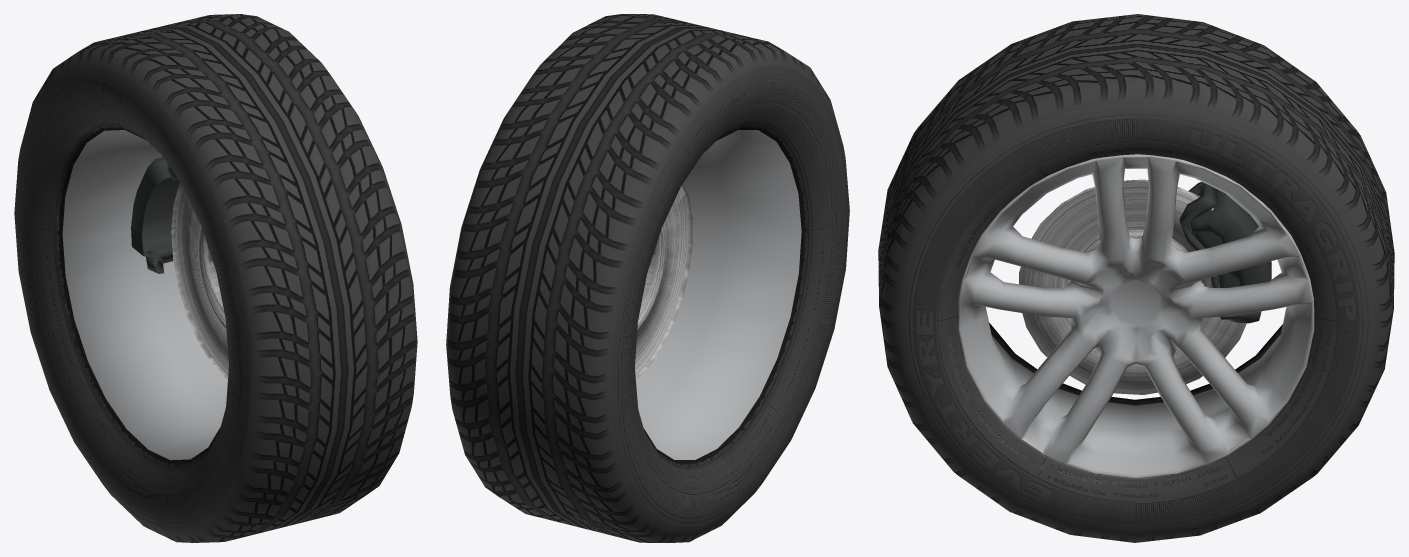
File: wheel.dae
3 views of the same model, side by side, from view 1: azimuth 30°, elevation 25°; view 2: azimuth 150°, elevation 25°; view 3: azimuth 270°, elevation 25° (orthographic).
Parts seen in each view (by area): view 1: Untitled_028, Untitled_027, Untitled_026, Untitled_025; view 2: Untitled_028, Untitled_027, Untitled_026; view 3: Untitled_028, Untitled_027, Untitled_026, Untitled_025.
Part boxes in pixels (x1,y1,x2,y2): Untitled_028: (14,14,417,542); Untitled_027: (62,130,227,460); Untitled_026: (171,183,228,379); Untitled_025: (131,157,180,273); Untitled_028: (446,14,849,542); Untitled_027: (636,130,801,459); Untitled_026: (635,182,692,379); Untitled_028: (878,14,1394,542); Untitled_027: (958,154,1314,479); Untitled_026: (1019,179,1246,394); Untitled_025: (1179,182,1271,323).
Size of the model in its own units: 0.2582 by 0.6621 by 0.6621.
4 materials, 2 textured.
